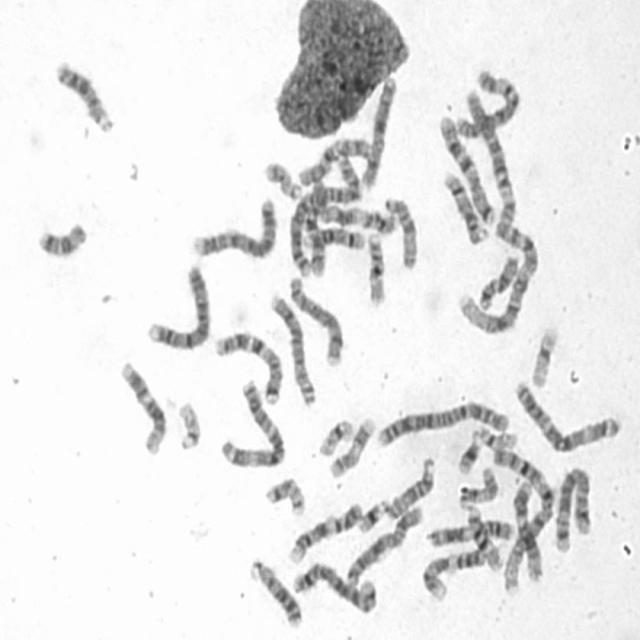A1: (455, 212, 542, 336), (489, 441, 558, 592)
A2: (286, 160, 362, 280), (372, 395, 510, 449)
A3: (512, 374, 622, 453), (217, 374, 288, 470)
B4: (143, 259, 214, 352), (189, 192, 280, 260)
B5: (288, 558, 378, 616), (550, 463, 594, 555)
C10: (294, 131, 374, 188), (305, 177, 327, 278)
C11: (424, 514, 516, 548), (316, 199, 399, 235)
C12: (117, 355, 169, 457), (510, 473, 546, 585)
C6: (462, 86, 520, 244), (452, 65, 522, 141)
C7: (435, 110, 498, 228), (211, 326, 284, 407)
C8: (265, 287, 320, 408), (285, 270, 347, 368)
C9: (286, 496, 366, 564), (418, 544, 488, 602)
D13: (52, 54, 116, 135), (245, 554, 304, 630)
D14: (441, 166, 492, 246), (298, 221, 367, 252)
D15: (383, 452, 438, 523), (380, 190, 420, 271)
E16: (464, 500, 505, 573), (364, 227, 388, 307)
E17: (327, 412, 378, 481), (456, 462, 500, 510)
E18: (476, 250, 520, 311), (34, 216, 89, 259)
F19: (527, 320, 562, 389), (315, 412, 356, 458)
F20: (262, 472, 307, 518), (261, 155, 304, 201)
G21: (354, 493, 390, 535), (453, 428, 484, 476)
G22: (174, 395, 204, 453), (471, 419, 518, 451)
X: (341, 500, 425, 590), (358, 71, 400, 191)
